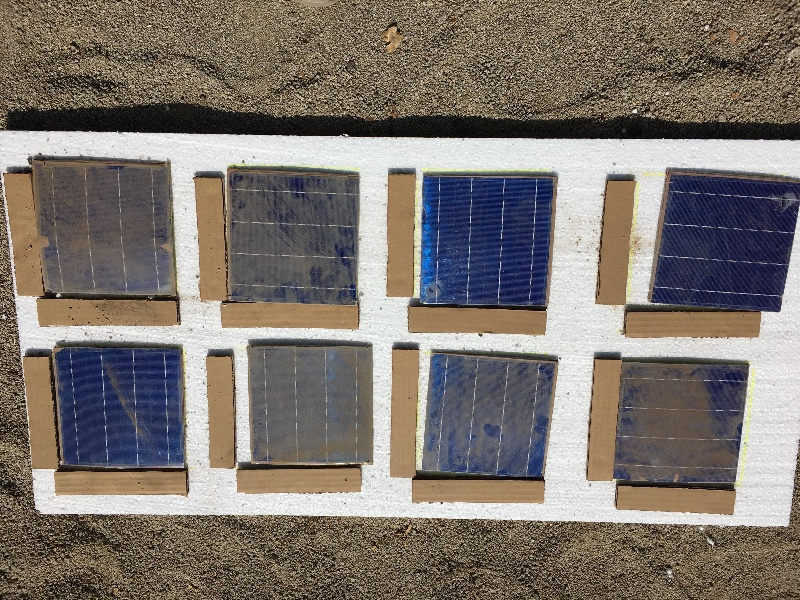clean: (662, 165, 793, 314), (422, 179, 550, 309), (47, 351, 182, 466)
dirty: (28, 159, 177, 299), (226, 171, 359, 310), (426, 356, 554, 482), (247, 346, 376, 465), (621, 359, 741, 484)
